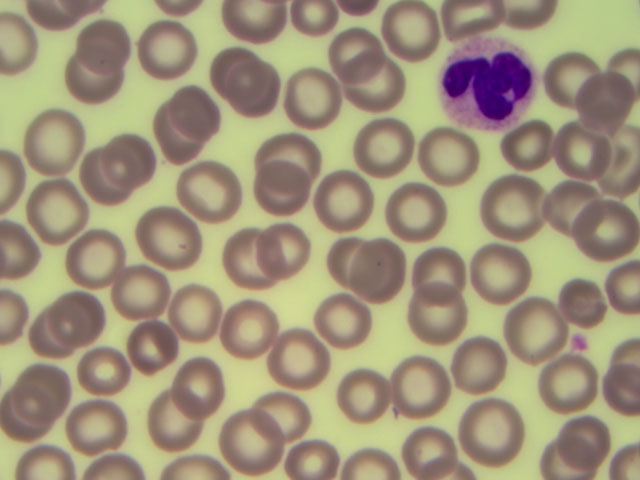Platelets: (571, 332, 594, 349)
RBC: (395, 424, 455, 480), (531, 424, 591, 480), (74, 19, 134, 74), (67, 52, 127, 107), (129, 20, 189, 75), (165, 80, 225, 135), (140, 114, 200, 169), (91, 129, 151, 184), (70, 150, 130, 205), (22, 109, 82, 164), (31, 188, 91, 243), (65, 230, 125, 285), (117, 269, 177, 324), (143, 208, 203, 263), (175, 165, 235, 220), (248, 168, 308, 223), (257, 137, 317, 192), (282, 69, 342, 124), (226, 61, 286, 116), (207, 41, 267, 96), (230, 1, 290, 56), (326, 23, 386, 78), (353, 65, 413, 120), (381, 3, 441, 58), (353, 115, 413, 170), (411, 129, 471, 184), (487, 182, 547, 237), (381, 181, 441, 236), (309, 167, 369, 222), (353, 247, 413, 302), (315, 237, 375, 292), (314, 290, 374, 345), (272, 326, 332, 381), (214, 303, 274, 358), (180, 290, 240, 345), (218, 231, 278, 286), (268, 214, 328, 269), (168, 356, 228, 411), (142, 402, 202, 457), (131, 326, 191, 381), (79, 336, 139, 391), (51, 284, 111, 339), (25, 312, 85, 367), (18, 363, 78, 418), (71, 402, 131, 457), (216, 412, 276, 467), (265, 383, 325, 438), (333, 373, 393, 428), (381, 361, 441, 416), (418, 286, 478, 341), (412, 248, 472, 303), (473, 242, 533, 297), (496, 301, 556, 356), (447, 335, 507, 390), (459, 401, 519, 456), (565, 403, 625, 458), (534, 359, 594, 414), (555, 272, 615, 327), (580, 199, 640, 254), (545, 174, 605, 229), (554, 123, 614, 178), (501, 120, 561, 175), (564, 71, 624, 126), (547, 37, 607, 92), (1, 386, 60, 441), (598, 127, 640, 190)
WBC: (438, 31, 531, 127)
